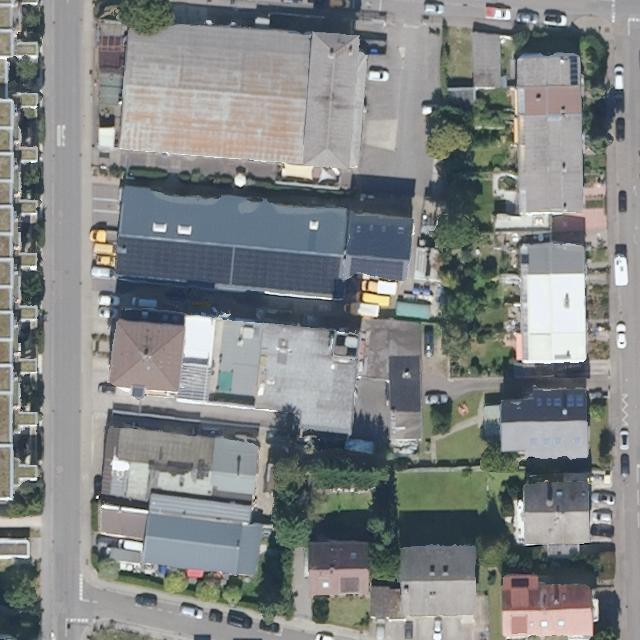PV: (113, 235, 235, 286), (230, 245, 344, 296), (346, 256, 408, 283)
